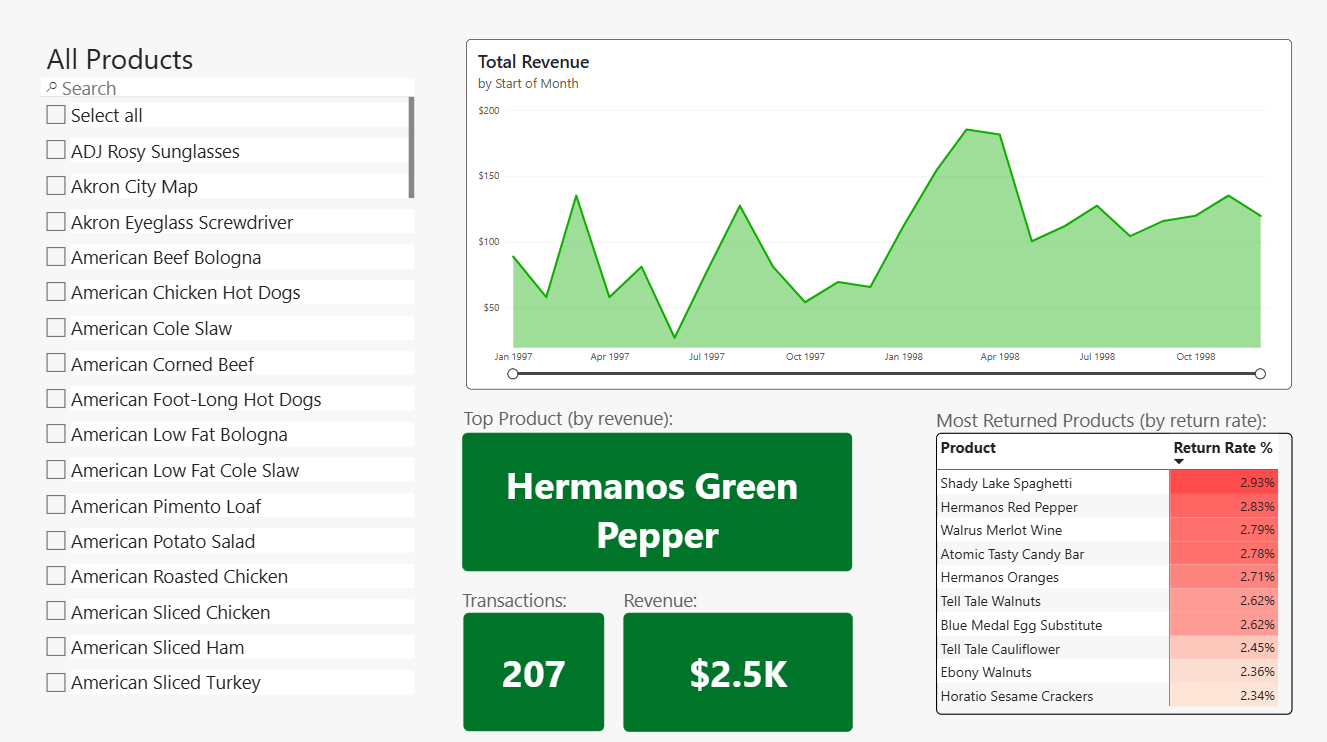

The dashboard page shown, as its layout file describes it:
{"tool":"powerbi","page":{"name":"Product Detail","canvas":[1920,1080],"ordinal":3},"visuals":[{"type":"card","title":"Revenue","fields":{"Values":["Min(Products.product_name)"]},"box":[671.3,630.9,561.1,199.3],"z":0},{"type":"textbox","box":[672.1,592.1,561.1,38.4],"z":1000},{"type":"card","title":"Revenue","fields":{"Values":["Measure.Total Transactions"]},"box":[672.1,890.8,202.7,170.7],"z":2000},{"type":"card","title":"Revenue","fields":{"Values":["Measure.Total Revenue"]},"box":[902.4,890.5,330,170.8],"z":3000},{"type":"textbox","box":[671.3,852,169.2,38.5],"z":4000},{"type":"textbox","box":[902,852.8,562.7,39],"z":5000},{"type":"areaChart","fields":{"Category":["Calendar.Date Hierarchy.Start of Month","Calendar.Date Hierarchy.Start of Week"],"Y":["Measure.Total Revenue"]},"box":[675.2,64.9,1188.1,504.2],"z":6000},{"type":"slicer","fields":{"Values":["Products.product_name"]},"box":[64.9,64.9,536.7,947.9],"z":7000},{"type":"pivotTable","fields":{"Rows":["Products.product_name"],"Values":["Measure.Return Rate"]},"box":[1351.7,631.5,512.5,405.3],"z":8000},{"type":"textbox","box":[1351.9,593.3,562.7,37.8],"z":8001}]}

Visuals, with their boxes in screenshot pixels (x1, y1, x2, y2), scaled from the page's 1920x1080 canvas onto the 1327x742 screenshot:
"Revenue" card: left=464, top=433, right=852, bottom=570
textbox: left=465, top=407, right=852, bottom=433
"Revenue" card: left=465, top=612, right=605, bottom=729
"Revenue" card: left=624, top=612, right=852, bottom=729
textbox: left=464, top=585, right=581, bottom=612
textbox: left=623, top=586, right=1012, bottom=613
areaChart - Calendar.Date Hierarchy.Start of Month x Calendar.Date Hierarchy.Start of Week: left=467, top=45, right=1288, bottom=391
slicer - Products.product_name: left=45, top=45, right=416, bottom=696
pivotTable - Products.product_name x Measure.Return Rate: left=934, top=434, right=1288, bottom=712
textbox: left=934, top=408, right=1323, bottom=434
